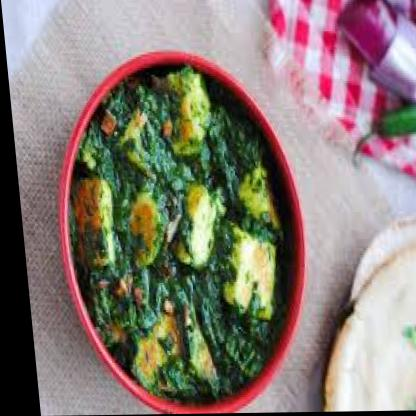palak_paneer: (49, 65, 291, 404)
